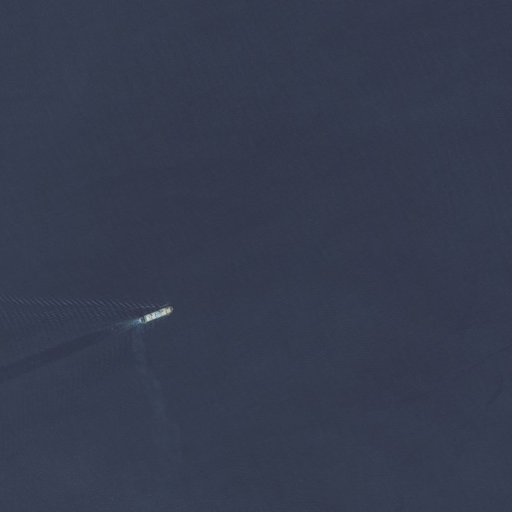ship: (136, 304, 176, 325)
